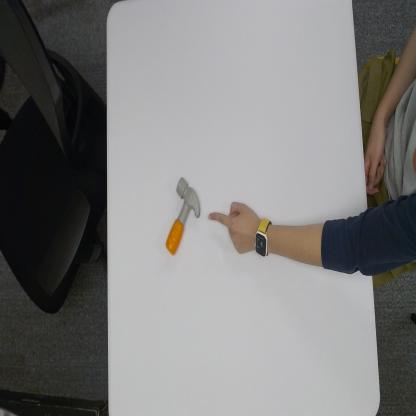Arm: (272, 217, 370, 275)
Hammer: (164, 176, 202, 255)
Hand: (208, 199, 257, 256)
